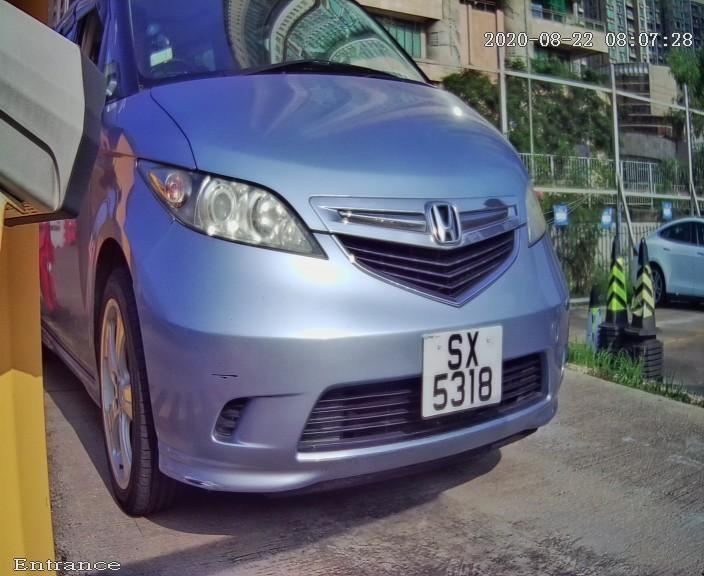Car: (23, 1, 617, 535)
License Plate: (412, 314, 510, 427)
